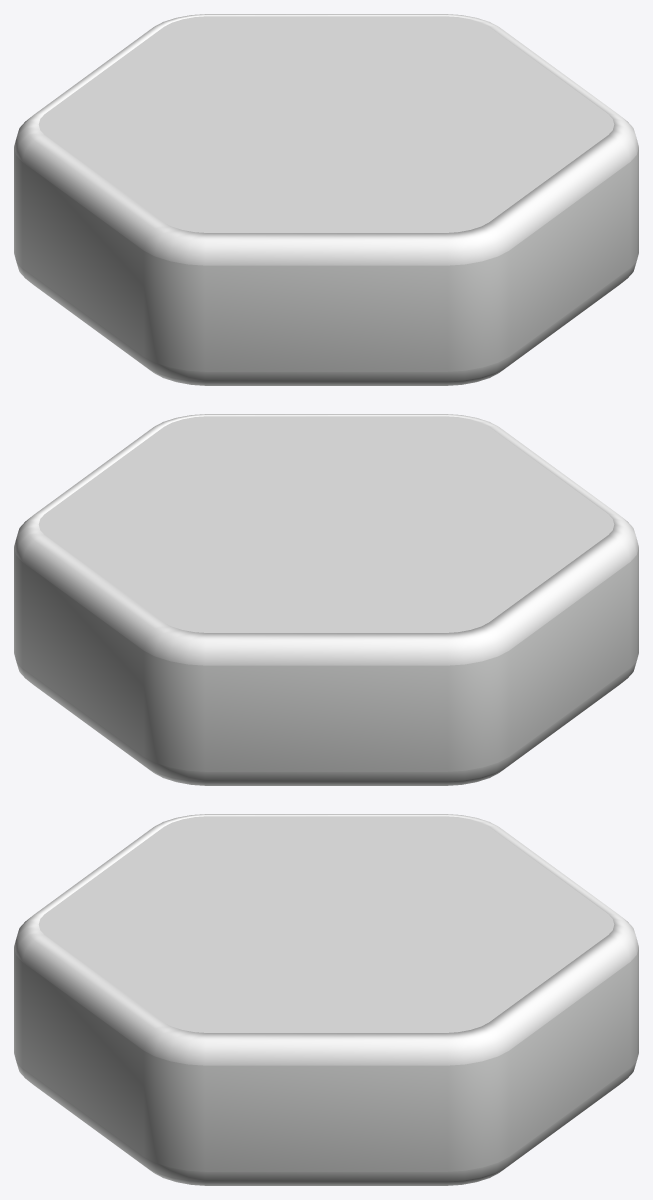
File: hexa (1).fbx
The picture shows the model from 3 angles, top to bottom: view 1: azimuth 30°, elevation 25°; view 2: azimuth 150°, elevation 25°; view 3: azimuth 270°, elevation 25°; orthographic projection.
Visible parts, largest first — view 1: Cylinder.006, Cylinder.007; view 2: Cylinder.006, Cylinder.007; view 3: Cylinder.006, Cylinder.007.
Part boxes in pixels (x1,y1,x2,y2): Cylinder.006: (14, 14, 638, 385); Cylinder.007: (38, 16, 614, 232); Cylinder.006: (14, 414, 638, 785); Cylinder.007: (38, 416, 614, 632); Cylinder.006: (14, 814, 638, 1185); Cylinder.007: (38, 816, 614, 1032).
Bounding box in the file's own units: 173 × 51.25 × 193.
1 material, 1 textured.
